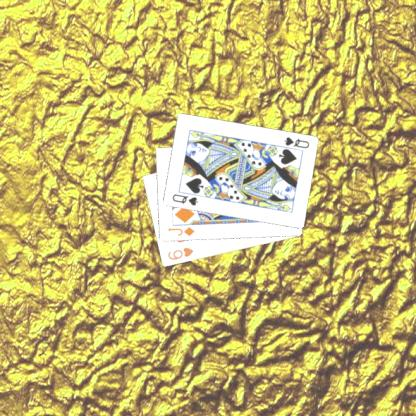6H: (164, 244, 195, 262)
JD: (165, 224, 196, 238)
QS: (169, 192, 199, 208), (282, 134, 310, 150)
